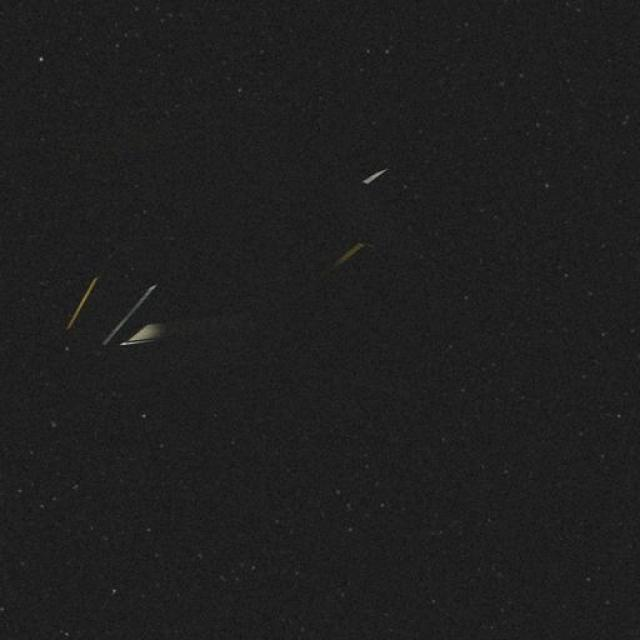cheops: (27, 145, 425, 417)
